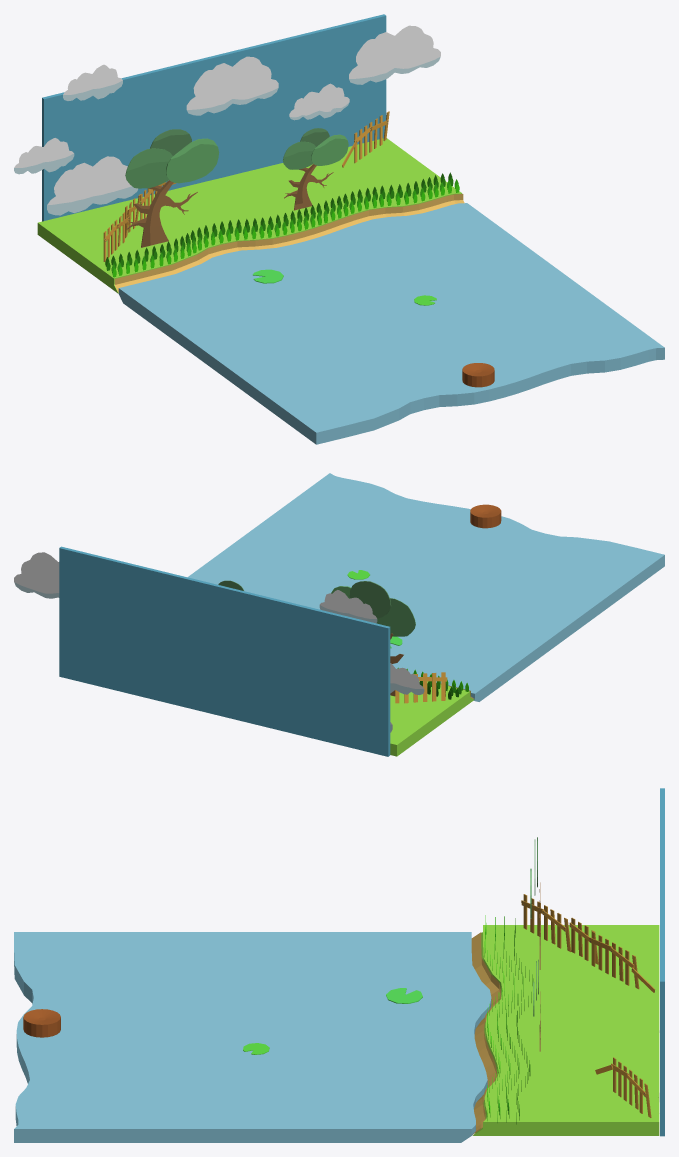
File: Bird Watch Refined Environment.fbx
The picture shows the model from 3 angles, top to bottom: view 1: azimuth 30°, elevation 25°; view 2: azimuth 150°, elevation 25°; view 3: azimuth 270°, elevation 25°; orthographic projection. The views are drawn at different scales.
Visible parts, largest first — view 1: Water, Backdrop, Level Base, Clouds Big Static, Sand, Clouds R, Small Clouds Static, Tree Top 1, Clouds Big Static Dark, Tree, Clouds L, Tree Top 2 (+4 smaller); view 2: Water, Backdrop, Level Base, Clouds R, Tree Top 3, Tree Top 2, Small Clouds Static, Player Stand, Fence Left, Clouds L; view 3: Water, Level Base, Sand, Backdrop, Fence Left, Player Stand, Fence Centre, Fence Right, Fence Left Corner.
Boxes of the visible parts, x1,y1,x2,y2 form: Water: (118, 203, 664, 444); Backdrop: (42, 14, 386, 221); Level Base: (37, 138, 462, 293); Clouds Big Static: (47, 56, 278, 204); Sand: (114, 194, 464, 292); Clouds R: (349, 25, 440, 78); Small Clouds Static: (63, 64, 349, 117); Tree Top 1: (166, 138, 219, 183); Clouds Big Static Dark: (47, 88, 278, 215); Tree: (127, 181, 197, 247); Clouds L: (14, 138, 73, 167); Tree Top 2: (125, 148, 169, 188); Water: (188, 473, 664, 701); Backdrop: (59, 546, 390, 756); Level Base: (390, 681, 474, 756); Clouds R: (14, 552, 59, 593); Tree Top 3: (349, 581, 391, 618); Tree Top 2: (376, 598, 415, 636); Small Clouds Static: (319, 590, 376, 618); Player Stand: (470, 504, 501, 528); Fence Left: (395, 672, 447, 703); Clouds L: (390, 663, 423, 689); Water: (14, 932, 491, 1142); Level Base: (473, 925, 659, 1135); Sand: (471, 932, 500, 1134); Backdrop: (660, 788, 664, 1136); Fence Left: (521, 895, 597, 964); Player Stand: (23, 1009, 60, 1037); Fence Centre: (589, 932, 654, 992); Fence Right: (595, 1058, 650, 1117); Fence Left Corner: (521, 894, 598, 964).
Size of the model in its own units: 3048 by 1107 by 3477.
